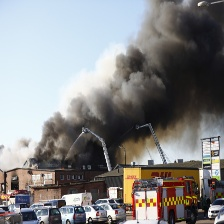smoke: (5, 1, 224, 159)
